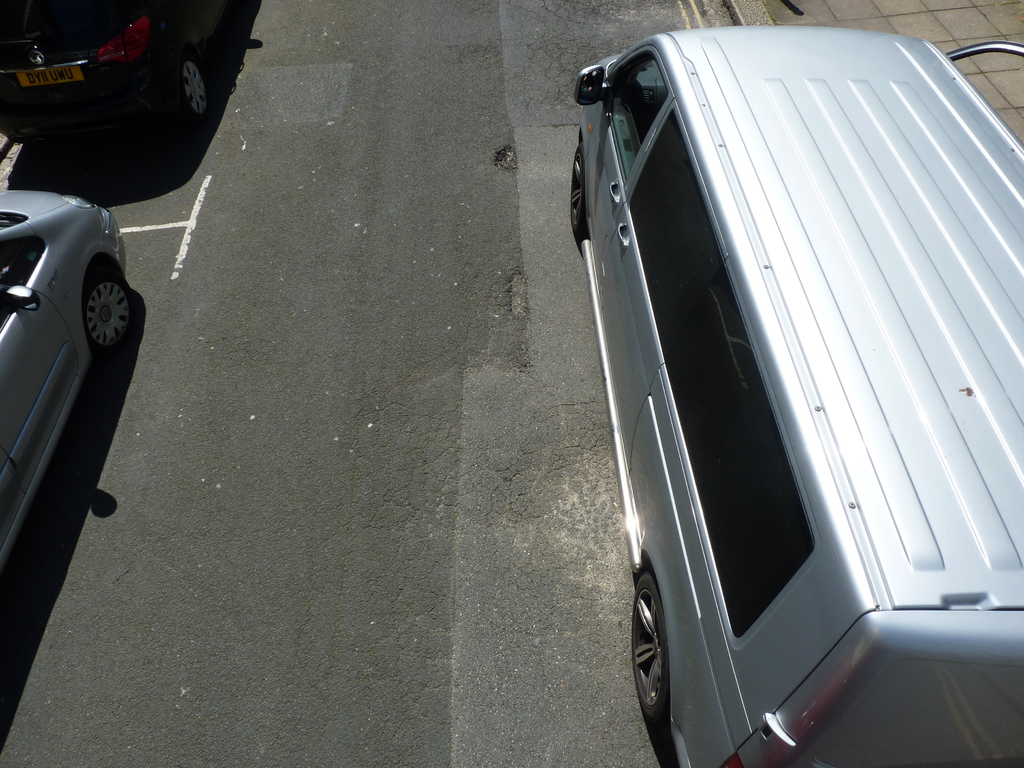Car: (0, 184, 135, 571)
